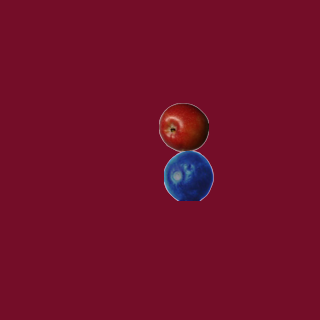Apple Braeburn: (158, 102, 208, 152)
Huckleberry: (163, 150, 213, 200)
